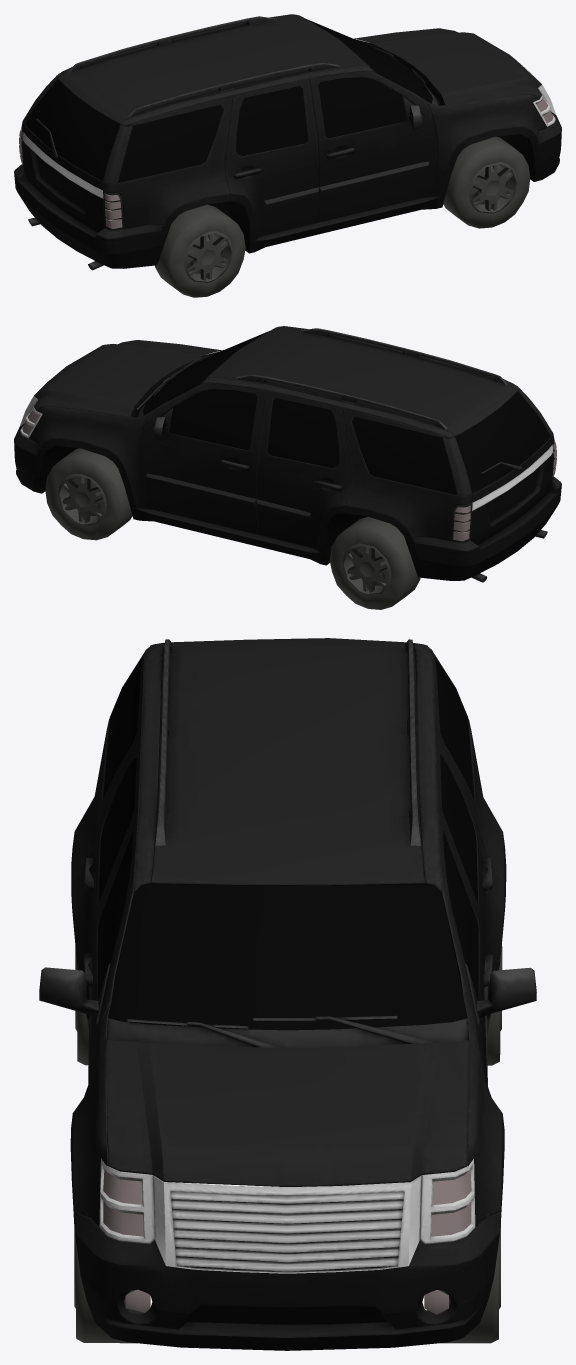
Rendered from pc-suv.lod0.glb.
3 views of the same model, one above another, from view 1: azimuth 30°, elevation 25°; view 2: azimuth 150°, elevation 25°; view 3: azimuth 270°, elevation 25° (orthographic). The views are drawn at different scales.
Parts seen in each view (by area): view 1: Wheel_E_Body_0, Wheel_E_Wheel_0; view 2: Wheel_E_Body_0, Wheel_E_Wheel_0; view 3: Wheel_E_Body_0, Wheel_E_Wheel_0.
Boxes of the visible parts, x1,y1,x2,y2 form: Wheel_E_Body_0: (14, 14, 561, 279); Wheel_E_Wheel_0: (19, 19, 553, 297); Wheel_E_Body_0: (14, 326, 561, 591); Wheel_E_Wheel_0: (22, 331, 556, 609); Wheel_E_Body_0: (39, 638, 536, 1350); Wheel_E_Wheel_0: (74, 656, 502, 1343).
Size of the model in its own units: 4.61 by 1.73 by 2.07.
Materials: 2 (1 with a texture image).
